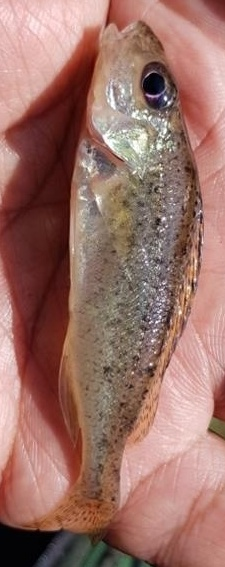Gymnocephalus cernuus: (20, 20, 205, 547)
